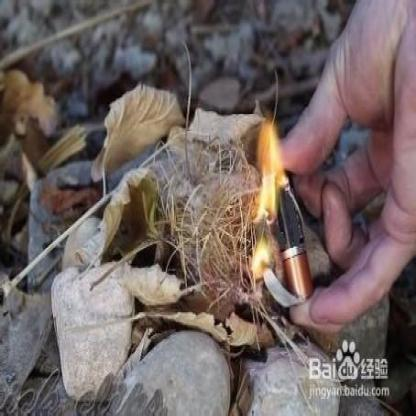fire: (237, 99, 295, 282)
